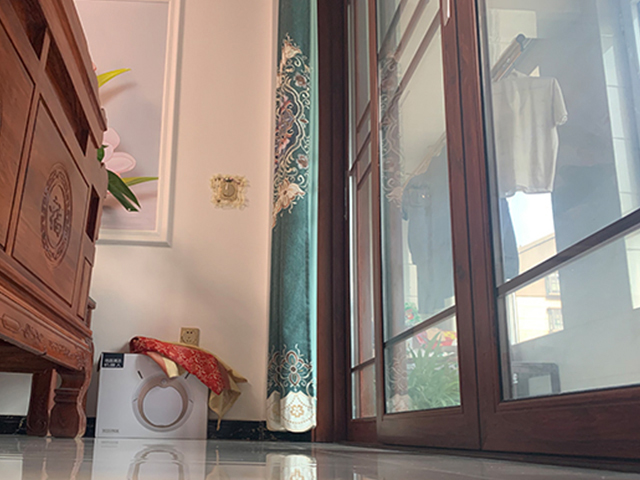curtain: (266, 1, 317, 432)
sofa: (1, 1, 107, 438)
